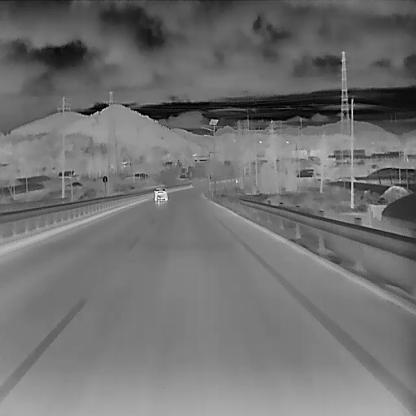car: (152, 187, 168, 201)
